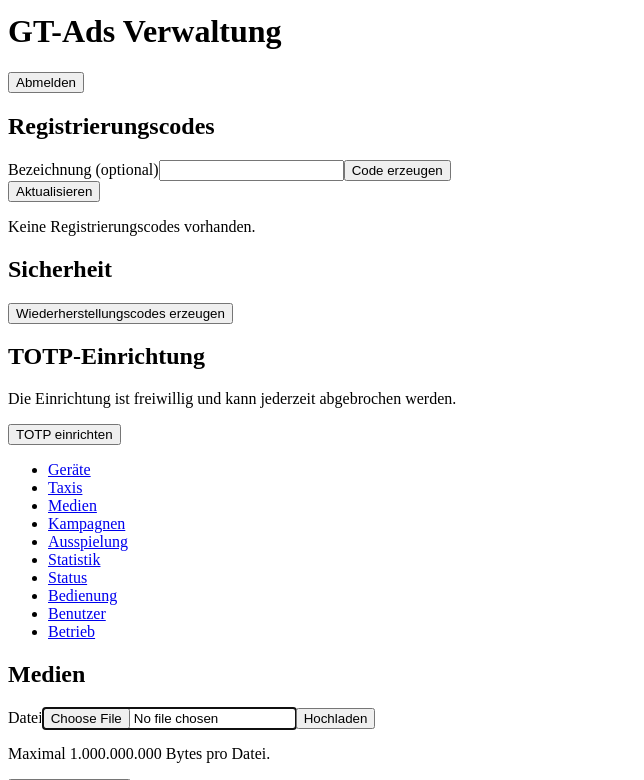
Test case: CX-039 Medienseite › zeigt den Serverfehler 413 verstaendlich ohne Erfolg oder Wiederholung
Earlier steps of the test are not shown.
Check: the heading "Medien" is shown, box [8, 661, 85, 687]
Click the button "Hochladen" at (336, 719), box [296, 708, 375, 729]
(page scrolled)
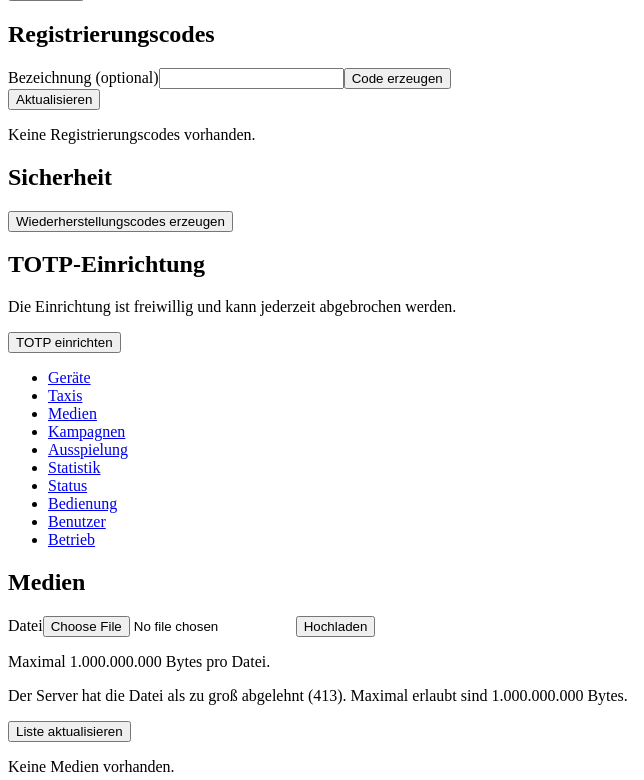
Check: the message shows "413", box [8, 687, 628, 704]
